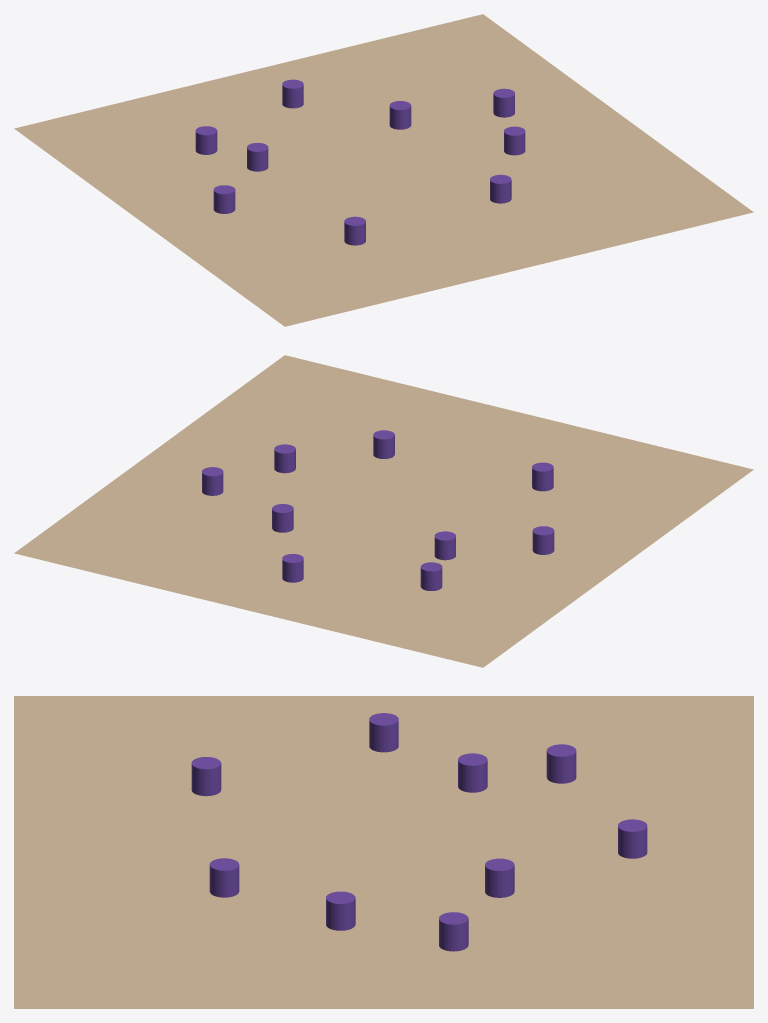
The model's file is simple_obstacles.dae.
The picture shows the model from 3 angles, top to bottom: view 1: azimuth 30°, elevation 25°; view 2: azimuth 150°, elevation 25°; view 3: azimuth 270°, elevation 25°; orthographic projection. The views are drawn at different scales.
Visible parts, largest first — view 1: Plane, Cylinder_006, Cylinder_001, Cylinder_002, Cylinder_007, Cylinder_004, Cylinder_005, Cylinder_008, Cylinder, Cylinder_003; view 2: Plane, Cylinder_002, Cylinder_001, Cylinder_003, Cylinder_004, Cylinder, Cylinder_005, Cylinder_007, Cylinder_006, Cylinder_008; view 3: Plane, Cylinder_001, Cylinder_005, Cylinder_004, Cylinder, Cylinder_006, Cylinder_007, Cylinder_008, Cylinder_002, Cylinder_003.
Boxes of the visible parts, x1,y1,x2,y2 form: Plane: [14, 14, 753, 326]; Cylinder_006: [389, 101, 411, 129]; Cylinder_001: [195, 126, 217, 154]; Cylinder_002: [213, 185, 235, 213]; Cylinder_007: [504, 126, 525, 155]; Cylinder_004: [344, 216, 365, 245]; Cylinder_005: [490, 174, 511, 203]; Cylinder_008: [493, 88, 514, 117]; Cylinder: [282, 79, 303, 108]; Cylinder_003: [247, 143, 268, 171]; Plane: [14, 355, 753, 667]; Cylinder_002: [532, 526, 554, 554]; Cylinder_001: [420, 562, 442, 590]; Cylinder_003: [434, 531, 455, 560]; Cylinder_004: [532, 462, 553, 491]; Cylinder: [282, 554, 303, 582]; Cylinder_005: [373, 430, 394, 458]; Cylinder_007: [274, 444, 295, 473]; Cylinder_006: [272, 504, 293, 532]; Cylinder_008: [202, 467, 223, 495]; Plane: [14, 696, 753, 1008]; Cylinder_001: [546, 744, 576, 783]; Cylinder_005: [209, 858, 239, 897]; Cylinder_004: [191, 757, 221, 796]; Cylinder: [618, 819, 647, 858]; Cylinder_006: [485, 858, 514, 897]; Cylinder_007: [326, 891, 355, 930]; Cylinder_008: [439, 912, 468, 951]; Cylinder_002: [369, 713, 398, 752]; Cylinder_003: [458, 753, 487, 792].
Size of the model in its own units: 25 by 25 by 1.17.
